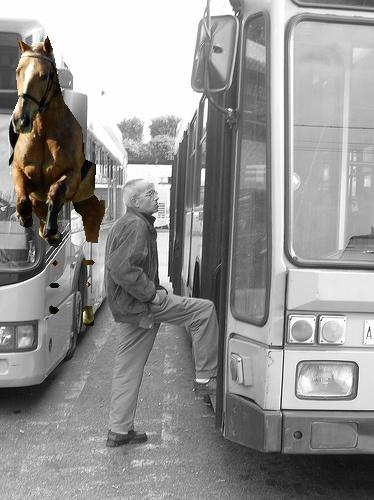tampered: (9, 37, 105, 326)
